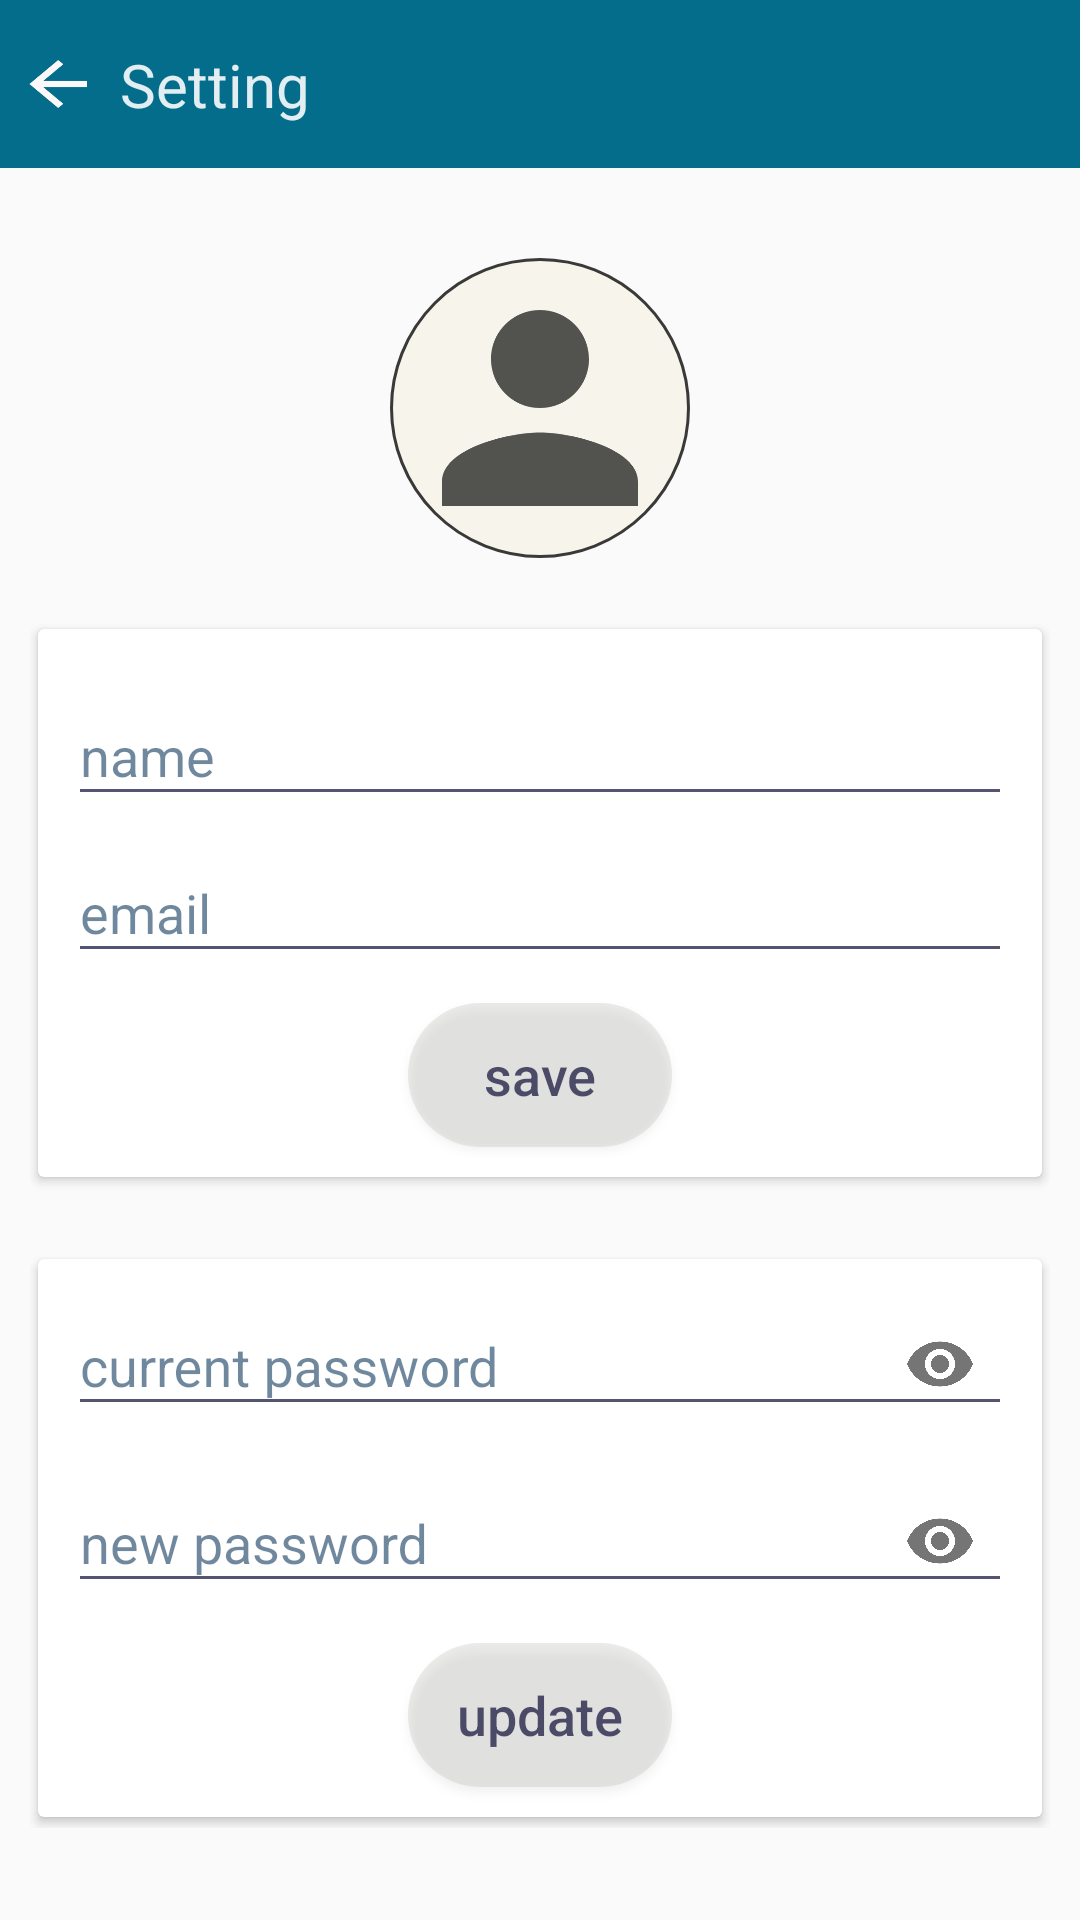

Named icons in this screenshot (1080 x 1920) and their centers, [x,y]:
back: [58,84]
